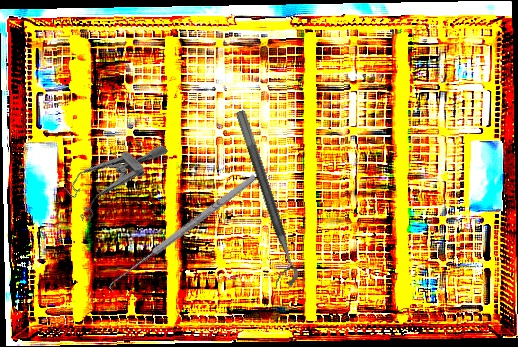Fixation Ring: (220, 109, 303, 292)
Hook Surgical: (105, 171, 262, 297)
Speculum: (56, 116, 169, 230)
